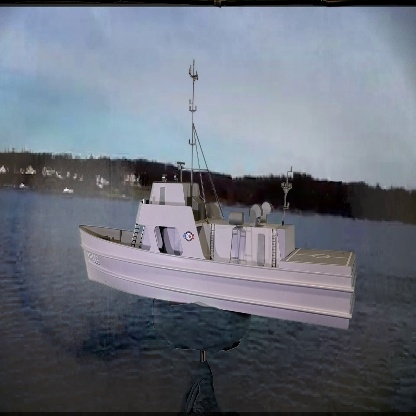YP689: (80, 59, 359, 331)
